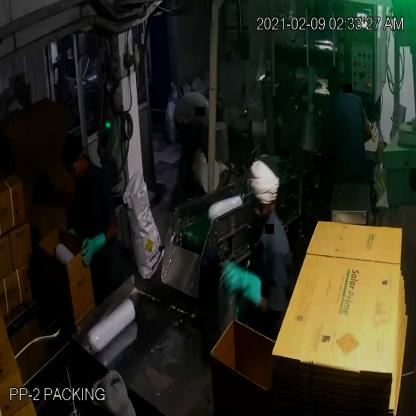glove: (209, 246, 265, 323), (74, 219, 114, 274)
